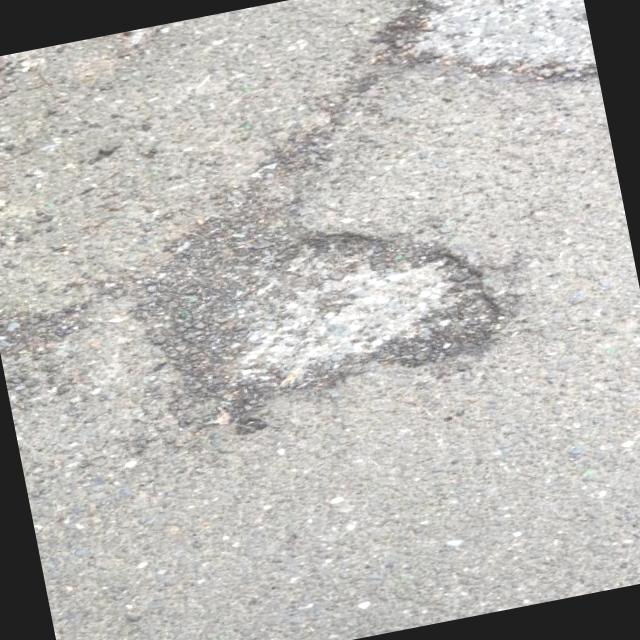pothole: (106, 188, 516, 432), (349, 0, 597, 123)
